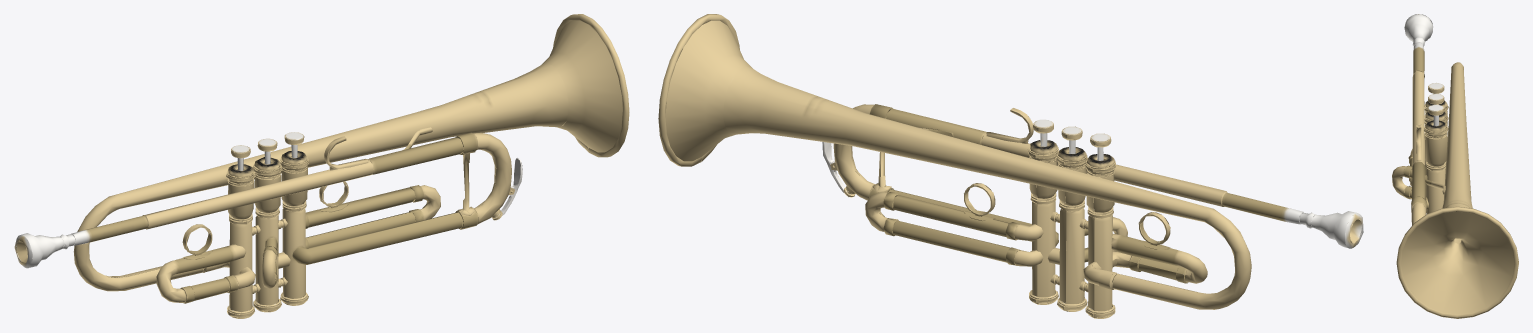
Rendered from trumpet-aee822.glb.
3 renders of one model, left to right at view 1: azimuth 30°, elevation 25°; view 2: azimuth 150°, elevation 25°; view 3: azimuth 270°, elevation 25°, orthographic. The views are drawn at different scales.
Visible parts, largest first — view 1: PropMesh; view 2: PropMesh; view 3: PropMesh.
Part boxes in pixels (x1,y1,x2,y2): PropMesh: [14, 14, 629, 318]; PropMesh: [658, 14, 1363, 318]; PropMesh: [1392, 14, 1518, 318].
Bounding box in the file's own units: 0.6943 × 0.2197 × 0.154.
Materials: 1 (1 with a texture image).
